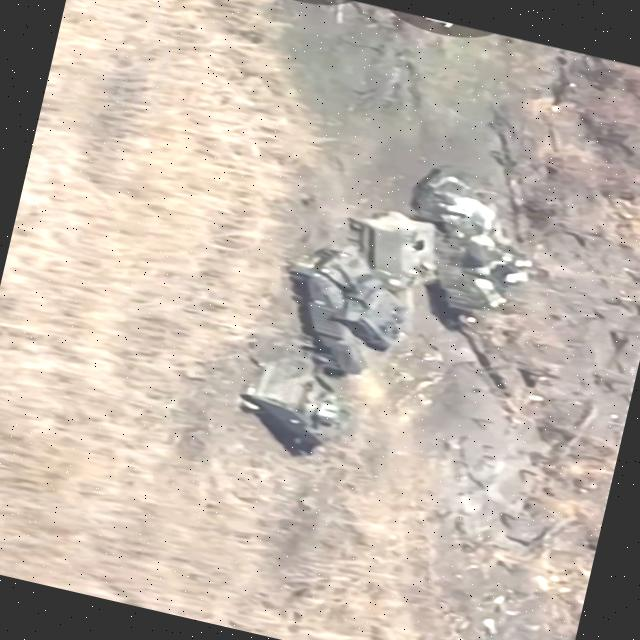APC: (407, 171, 557, 326), (236, 360, 358, 451), (345, 202, 449, 294)
MBT: (272, 237, 417, 384)
